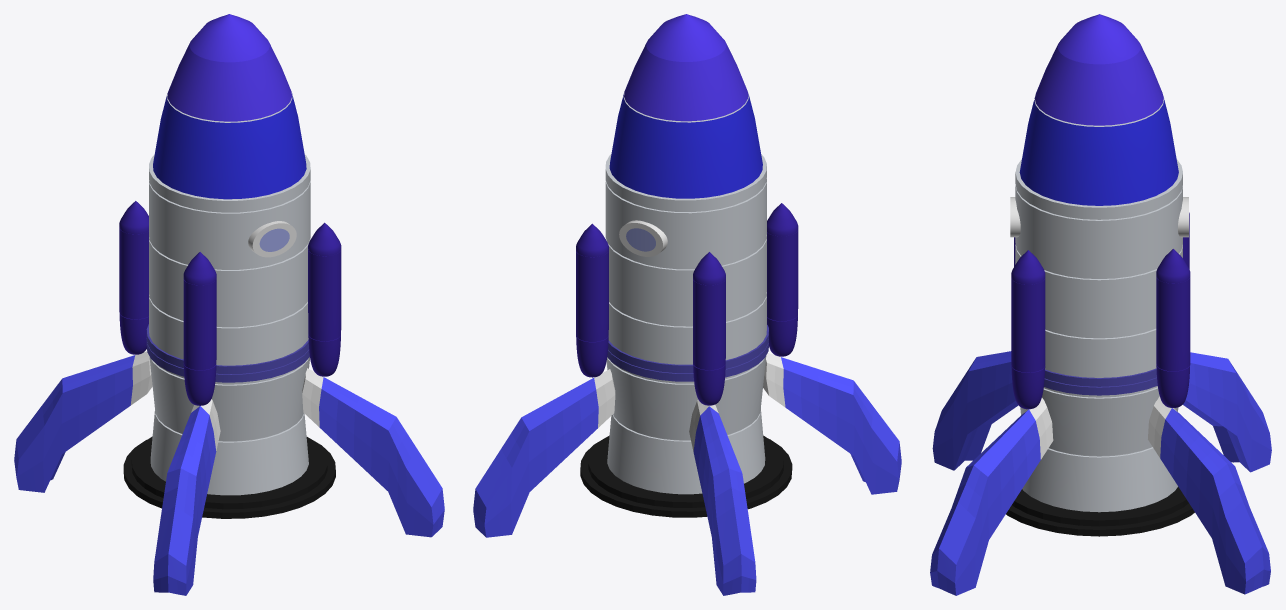
File: SpaceShuttle_sp.fbx
The picture shows the model from 3 angles, left to right: view 1: azimuth 30°, elevation 25°; view 2: azimuth 150°, elevation 25°; view 3: azimuth 270°, elevation 25°; orthographic projection. The views are drawn at different scales.
Parts seen in each view (by area): view 1: 실린더.005, 실린더.006, 실린더.012, 실린더.013; view 2: 실린더.005, 실린더.011, 실린더.013, 실린더.012; view 3: 실린더.005, 실린더.011, 실린더.006, 실린더.012, 실린더.013.
Part boxes in pixels (x1,y1,x2,y2): 실린더.005: (119,14,341,518); 실린더.006: (302,368,444,537); 실린더.012: (14,351,152,492); 실린더.013: (153,399,220,595); 실린더.005: (576,14,798,517); 실린더.011: (473,369,615,537); 실린더.013: (763,353,901,494); 실린더.012: (689,399,756,595); 실린더.005: (1006,14,1194,536); 실린더.011: (1148,396,1270,594); 실린더.006: (930,398,1053,595); 실린더.012: (1182,352,1271,472); 실린더.013: (932,351,1018,470).
Size of the model in its own units: 2005 by 3287 by 1995.
